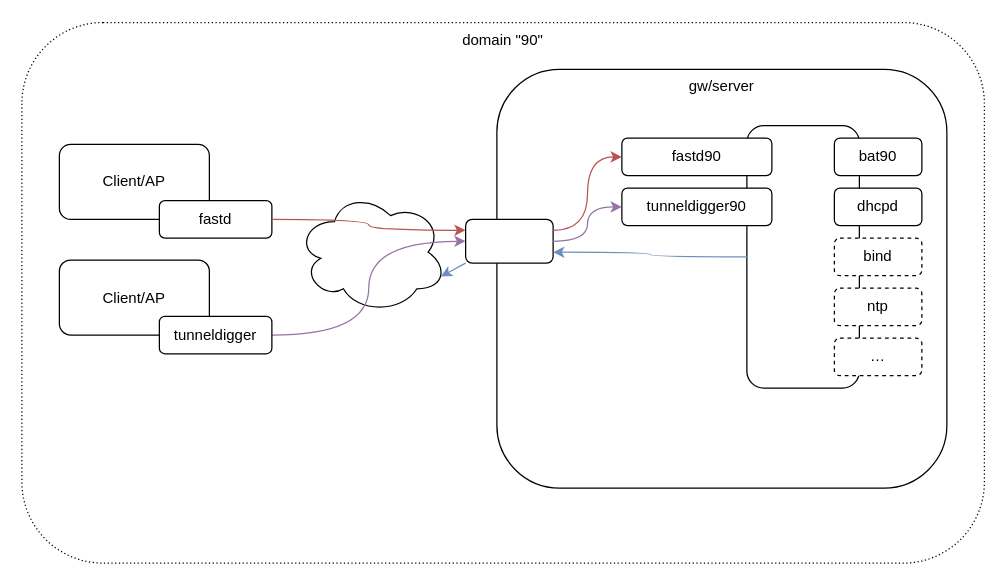
Image size: 1006x585. Some labels were removed from this diagram. Each missing label, with the centre of its shape:
br90: the point at 802,256
eth0: the point at 508,240
Internet: the point at 371,251
